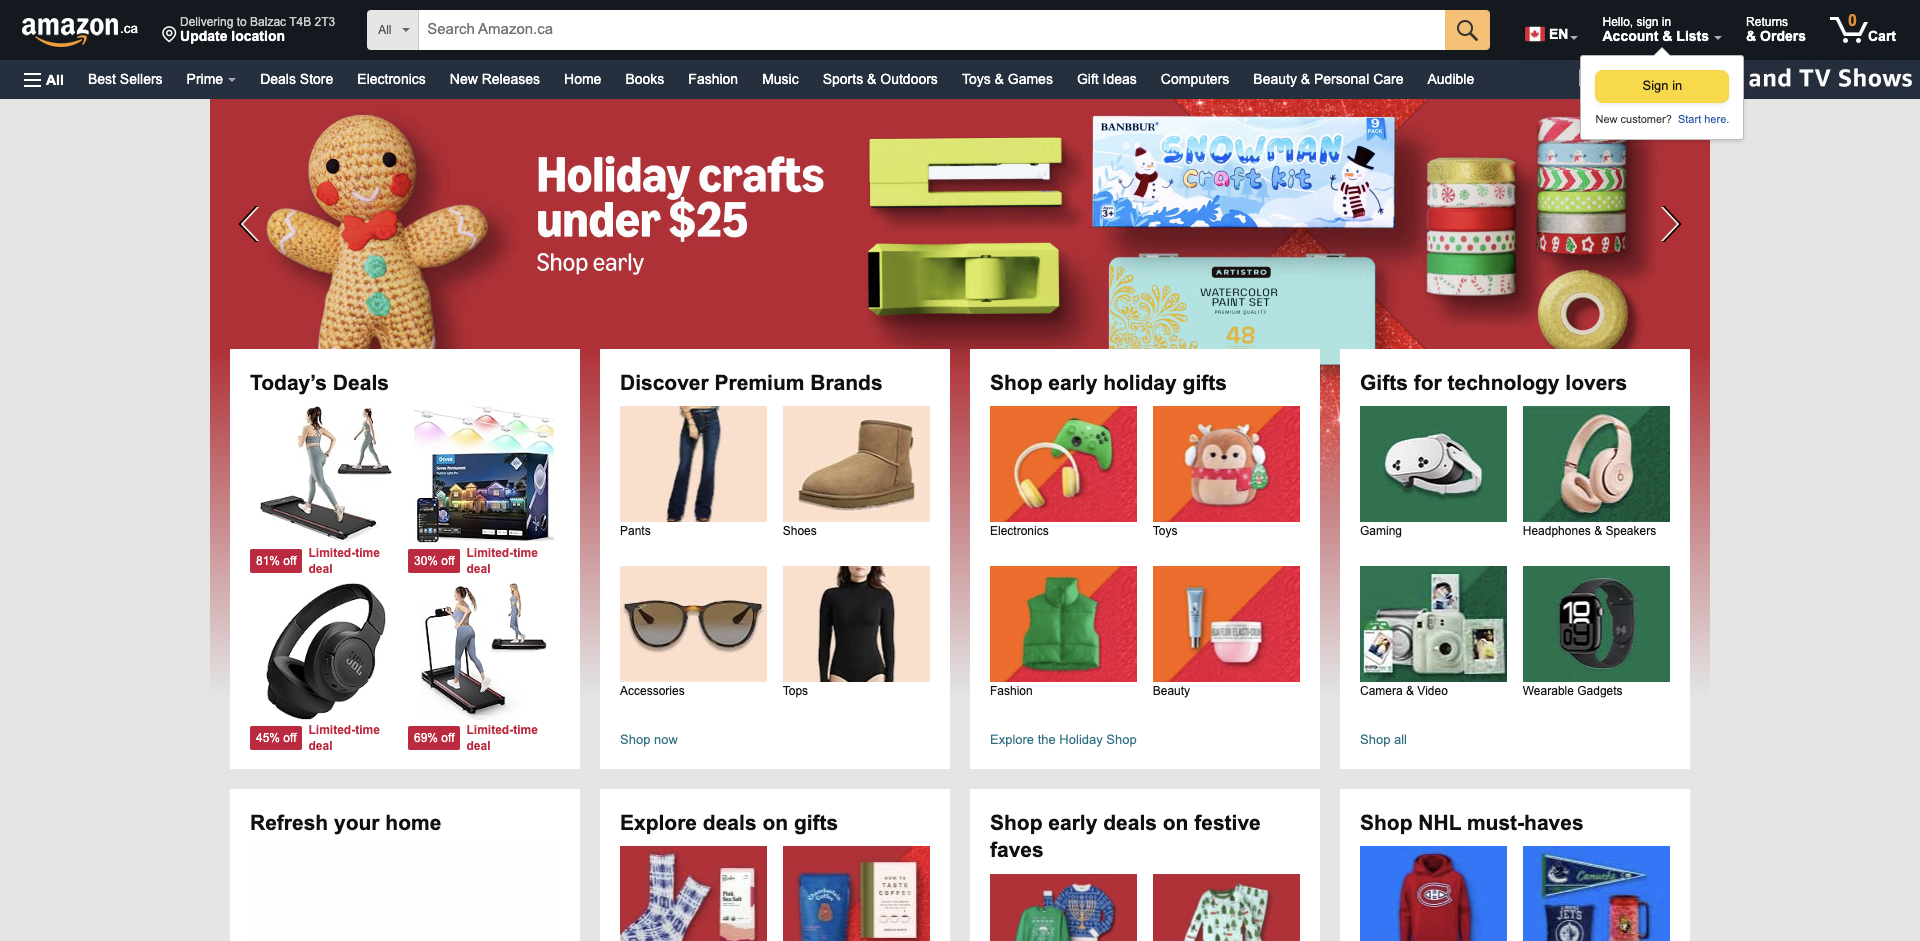button: (211, 99, 1709, 330), (153, 5, 344, 55), (1596, 70, 1729, 103), (15, 60, 73, 99)
dropdown: (369, 10, 615, 45)
input: (419, 11, 1445, 49), (1445, 10, 1490, 50)
link: (211, 99, 1709, 698), (1709, 99, 1920, 698), (0, 99, 211, 399), (230, 847, 580, 941), (250, 407, 402, 577), (408, 407, 560, 577), (250, 583, 402, 754), (408, 583, 560, 754), (211, 99, 294, 349), (1626, 99, 1709, 349), (620, 566, 768, 682), (782, 566, 931, 682), (989, 566, 1138, 682), (1152, 566, 1300, 682), (1360, 566, 1507, 682), (1523, 566, 1670, 682), (620, 407, 768, 522), (782, 407, 931, 522), (989, 407, 1138, 522), (1152, 407, 1300, 522), (1360, 407, 1507, 522), (1523, 407, 1670, 522), (1520, 60, 1920, 99), (620, 847, 768, 941), (782, 847, 931, 941), (1360, 847, 1507, 941), (1523, 847, 1670, 941), (989, 874, 1138, 941), (1152, 874, 1300, 941), (1593, 5, 1731, 55), (16, 5, 148, 55), (7, 10, 152, 47), (76, 104, 263, 132), (620, 733, 931, 749), (989, 733, 1300, 749), (1360, 733, 1670, 749), (1242, 65, 1416, 93), (1821, 5, 1905, 55), (263, 104, 411, 132), (666, 104, 813, 132), (811, 65, 950, 93), (1738, 5, 1815, 55), (1286, 104, 1422, 132), (1151, 104, 1286, 132), (813, 104, 945, 132), (1513, 5, 1587, 55), (950, 65, 1065, 93), (438, 65, 552, 93), (76, 143, 181, 172), (945, 104, 1047, 132), (76, 65, 175, 93), (249, 65, 345, 93), (498, 104, 593, 132), (345, 65, 438, 93), (1149, 65, 1242, 93), (411, 104, 498, 132), (1065, 65, 1149, 93), (676, 65, 751, 93), (175, 65, 249, 93), (593, 104, 666, 132), (1416, 65, 1487, 93), (613, 65, 676, 93), (552, 65, 613, 93), (751, 65, 811, 93), (1047, 104, 1103, 132), (1103, 104, 1151, 132), (1675, 113, 1729, 125)
